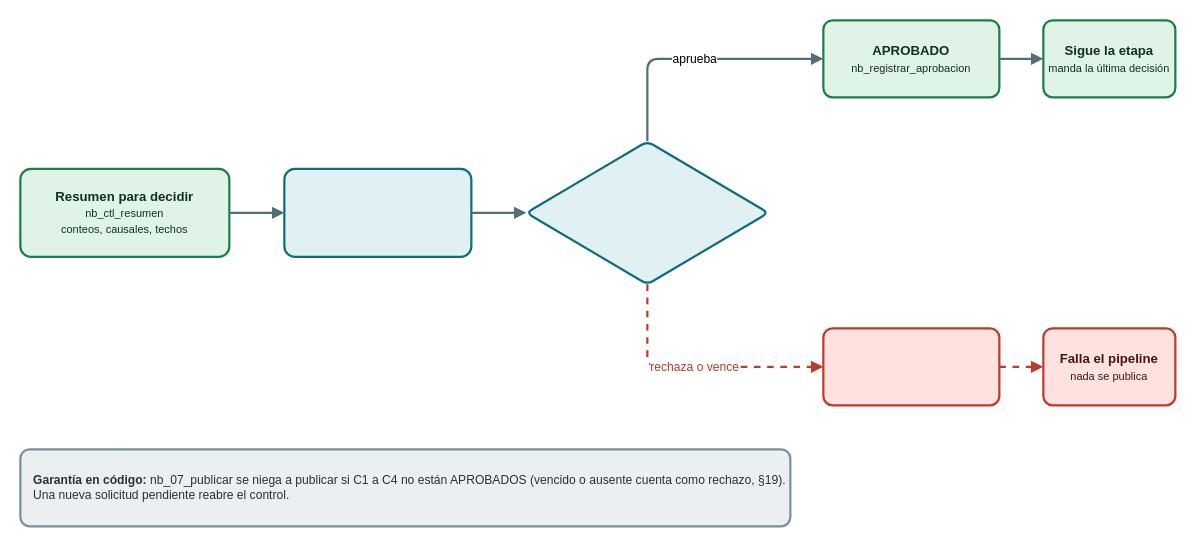
Image size: 1195x546. Some labels were removed from this diagram. Each missing label, with the centre of its shape:
RECHAZADO o VENCIDO nb_registrar_aprobacion: [911,366]
Solicitud: PENDIENTE ctl.aprobaciones: [377,212]
¿Quién decide? Plan A: Approval (Outlook/Teams) Plan B: Until + nb_aprobar: [647,212]
